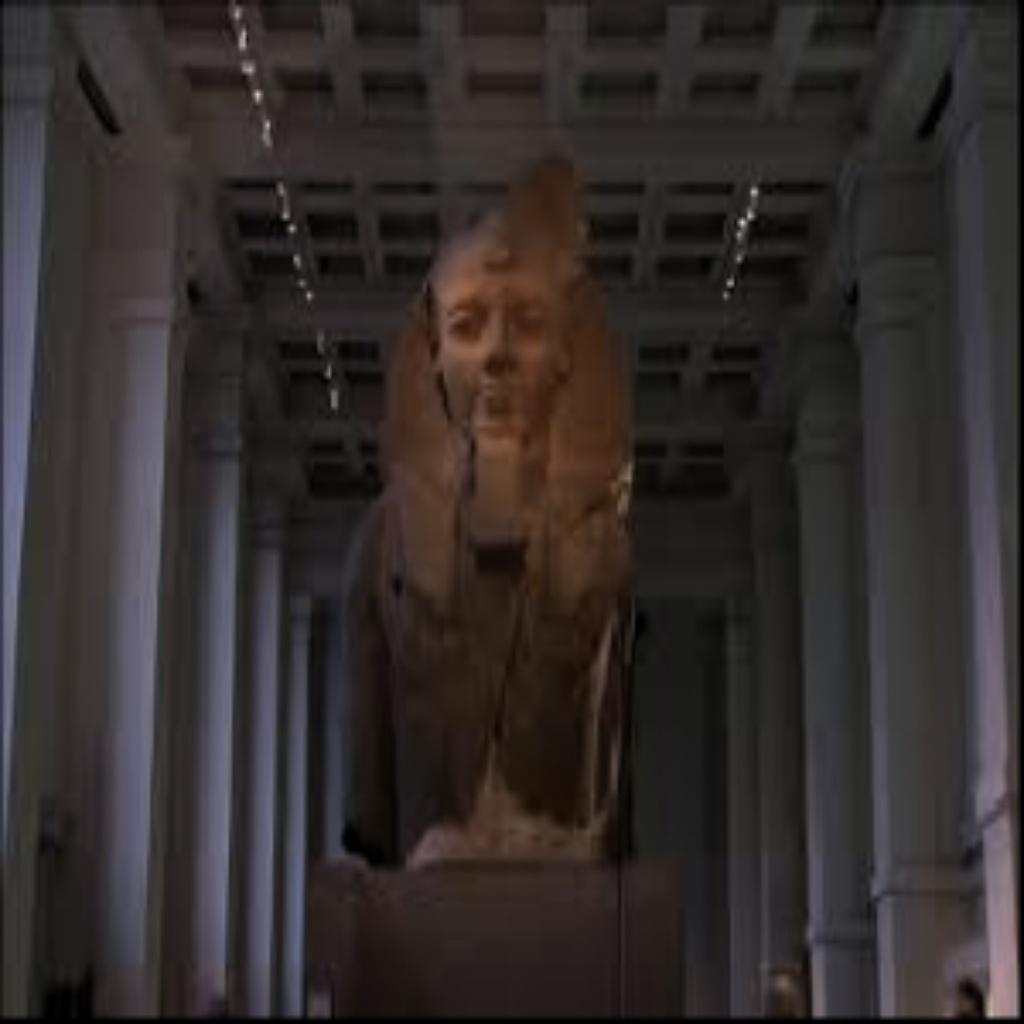bust of Ramesses II: (334, 146, 642, 872)
